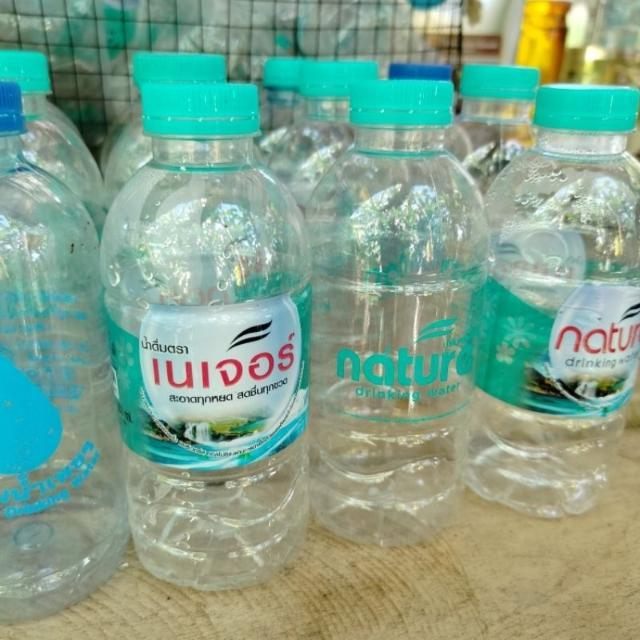PET Bottle: (99, 60, 309, 598), (461, 64, 640, 544), (312, 59, 469, 574), (0, 58, 126, 636)
